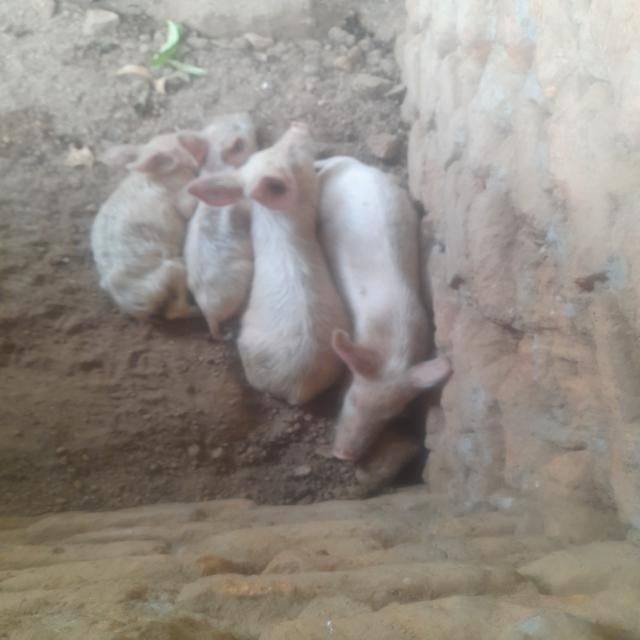pig: (284, 124, 495, 495)
